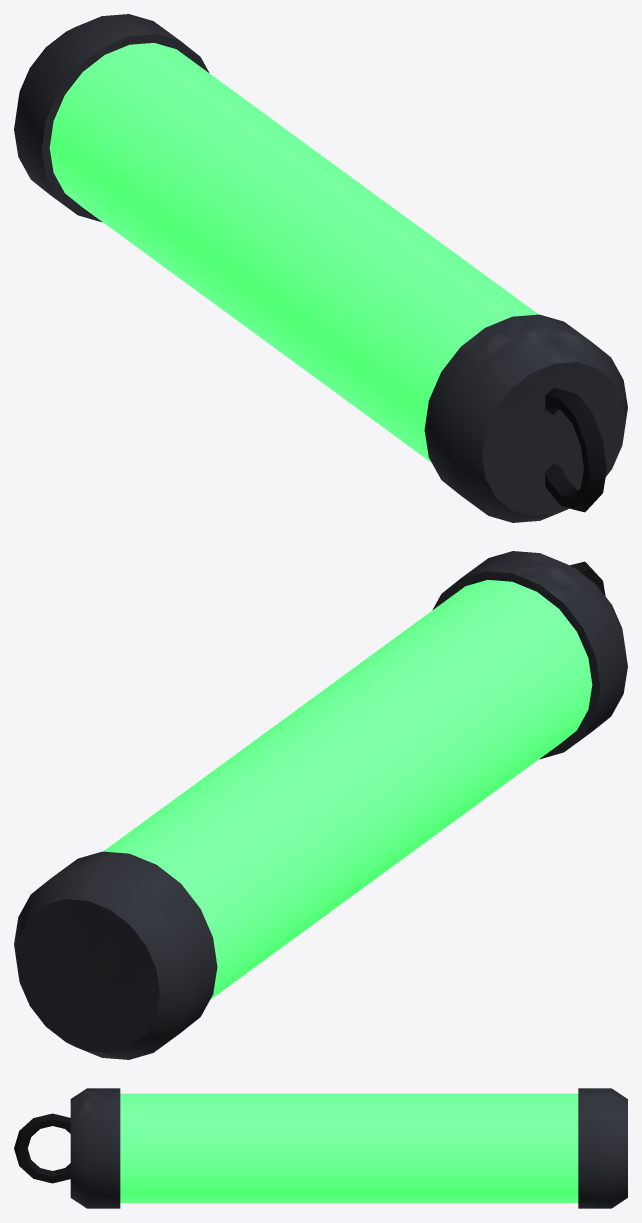
Rendered from glowstick.glb.
3 views of the same model, one above another, from view 1: azimuth 30°, elevation 25°; view 2: azimuth 150°, elevation 25°; view 3: azimuth 270°, elevation 25° (orthographic). The views are drawn at different scales.
Parts seen in each view (by area): view 1: Body; view 2: Body; view 3: Body.
Boxes of the visible parts, box(x1,y1,x2,y2) form: Body: box(14, 14, 627, 522); Body: box(14, 551, 627, 1059); Body: box(14, 1088, 627, 1208).
Bounding box in the file's own units: 0.044 × 0.044 × 0.2225.
Materials: 3 (1 with a texture image).
